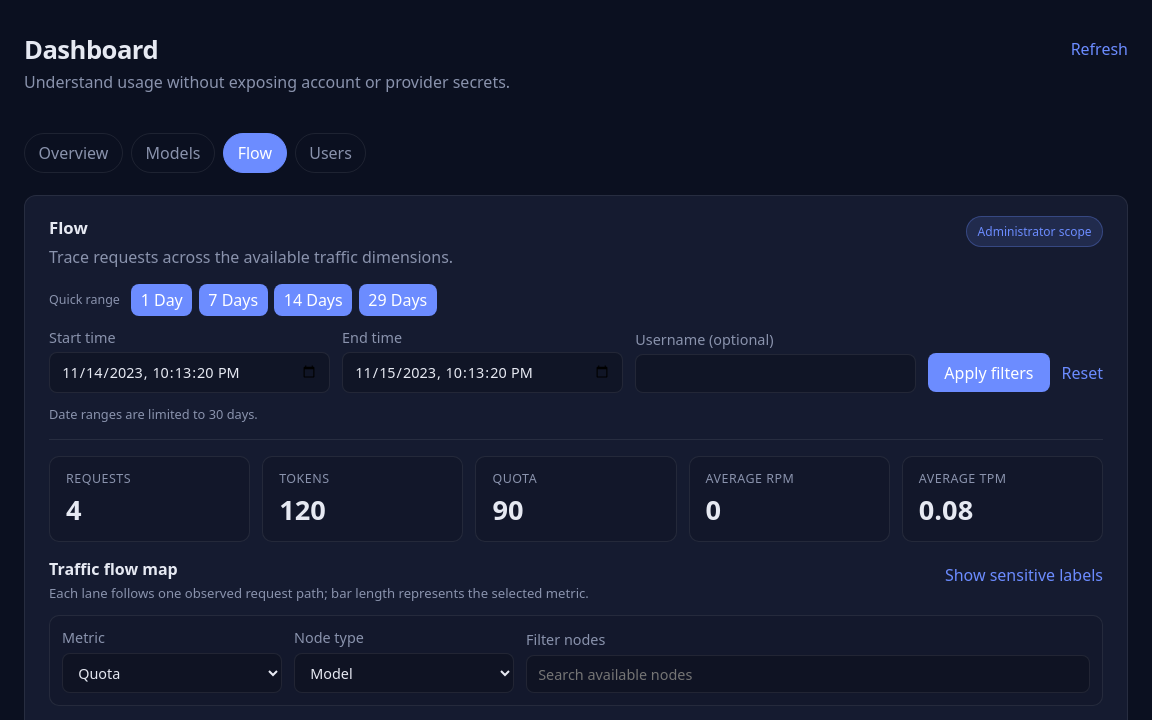
DashboardView › treats arrow characters inside flow labels as content instead of extra stages
This screenshot has width=1152, height=720.
Click the button "Show sensitive labels".
click(1024, 575)  # box [945,558,1103,592]
(page scrolled)
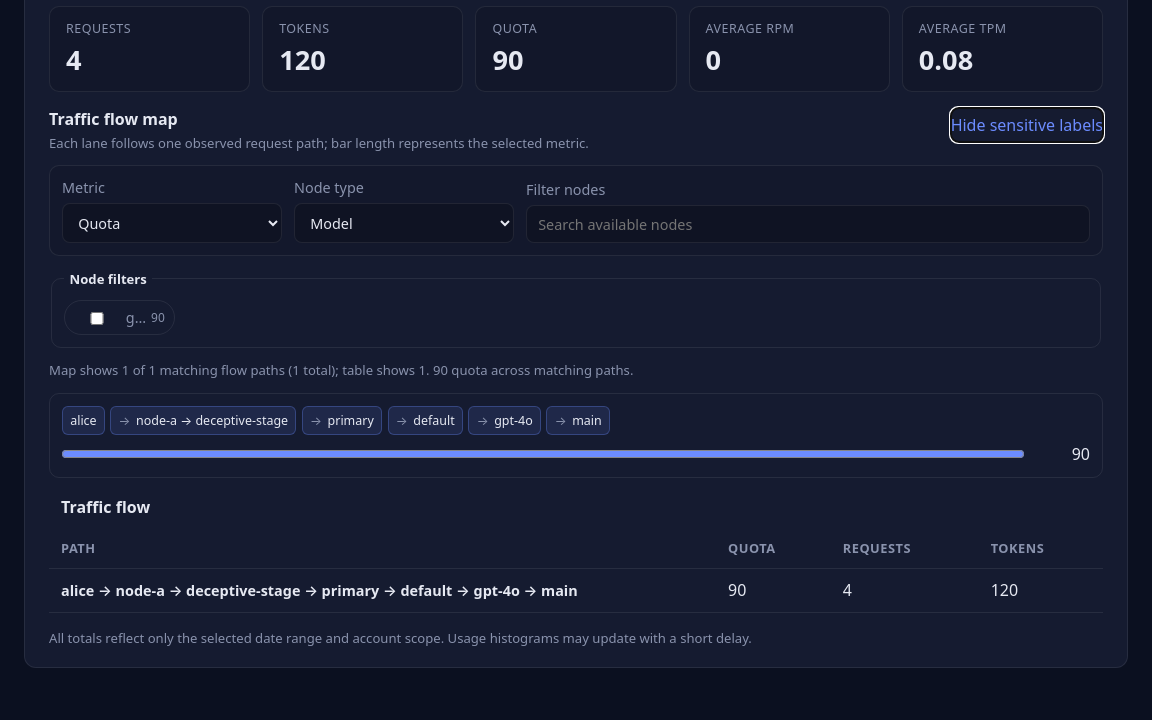
Now the text "node-a → deceptive-stage" is shown, box [110,406,296,434]
